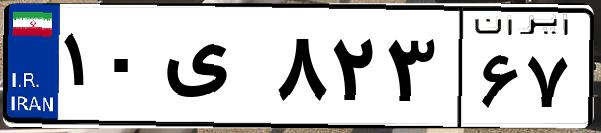0: (110, 28, 158, 98)
1: (57, 26, 110, 100)
2: (330, 28, 385, 110)
3: (385, 28, 445, 110)
6: (475, 38, 525, 113)
7: (525, 38, 570, 115)
8: (270, 28, 330, 110)
ی: (158, 20, 270, 120)
